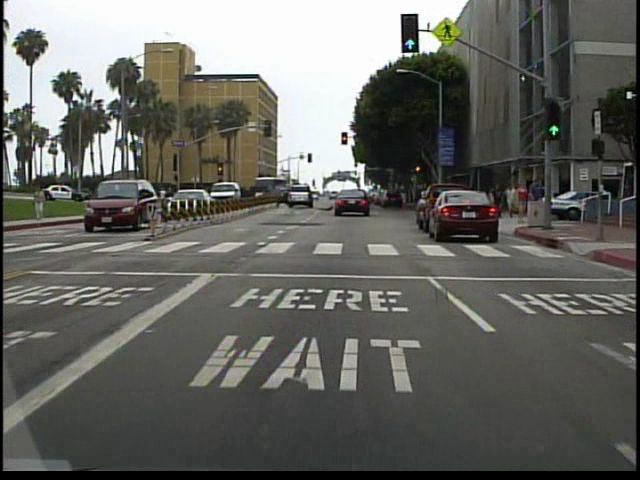person: (530, 176, 546, 222), (35, 182, 53, 221), (512, 184, 528, 226), (503, 182, 517, 222)
